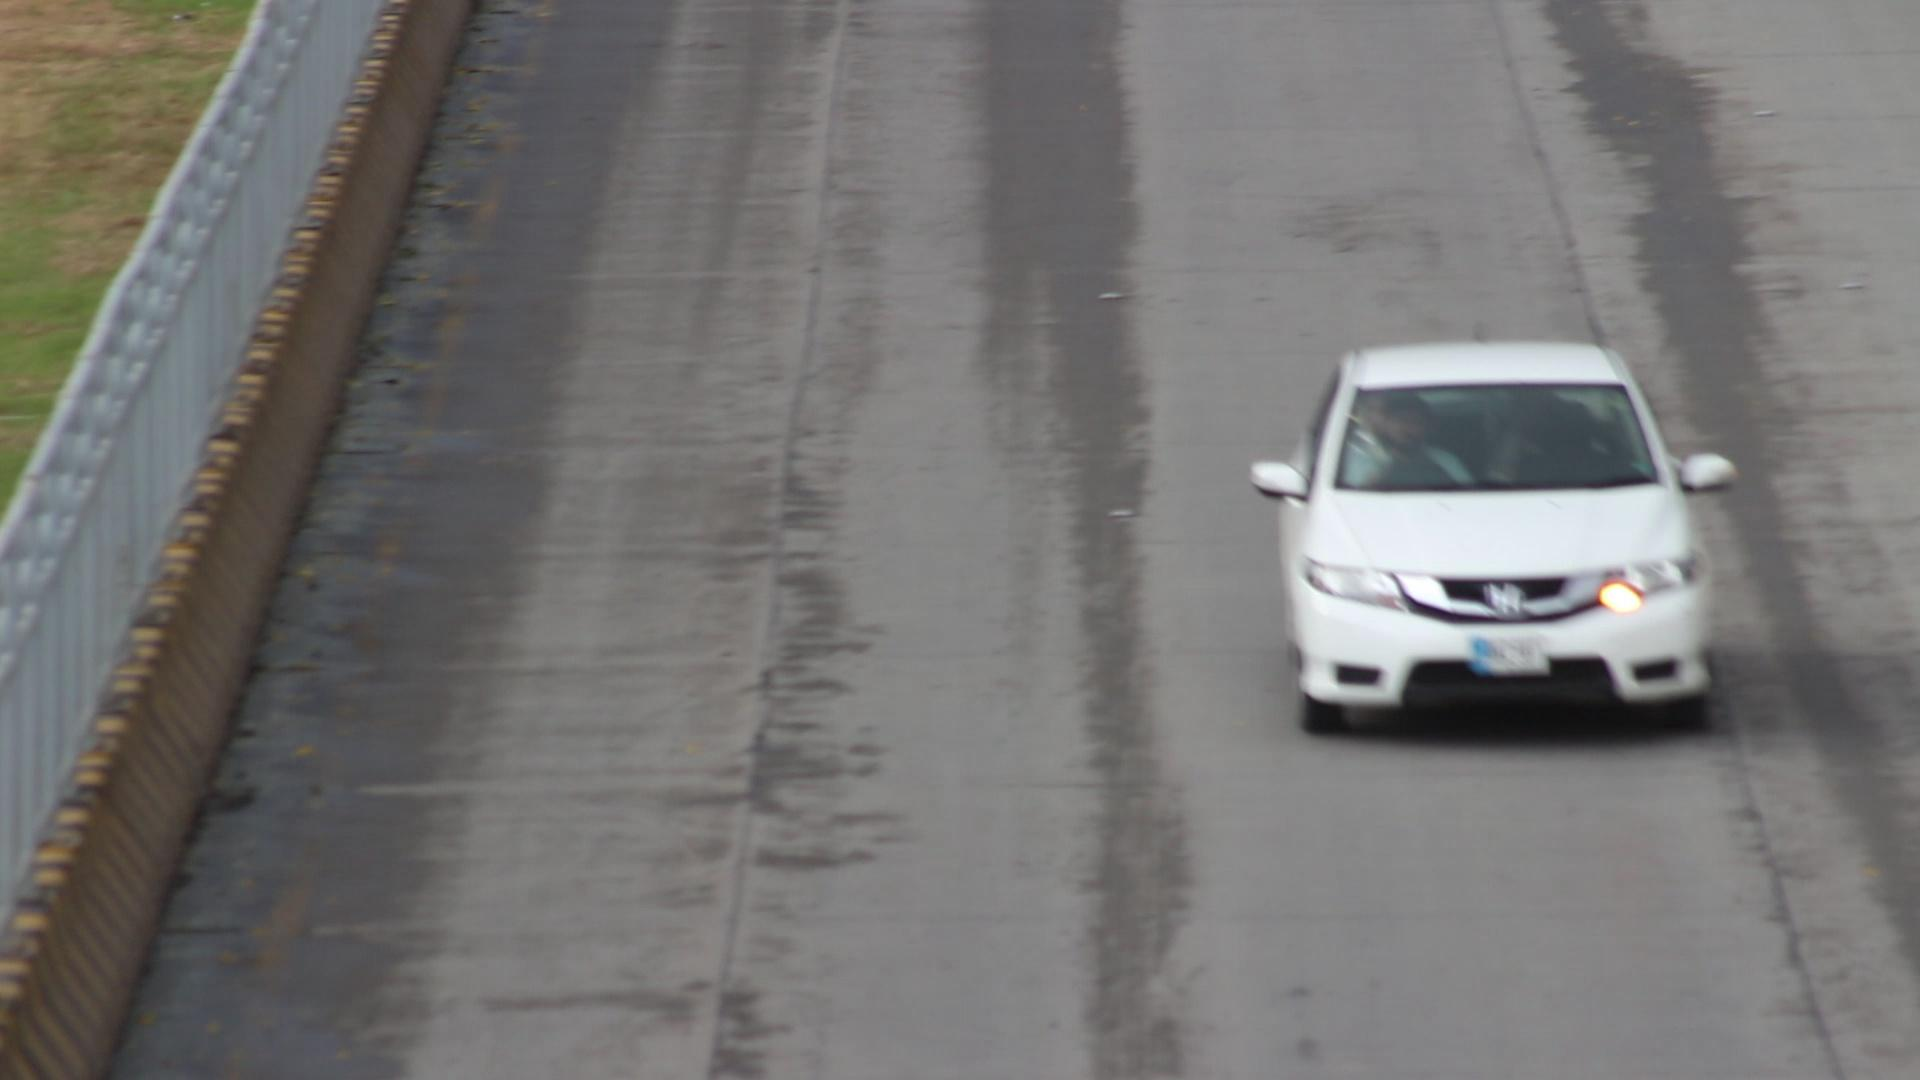windshield: (1311, 360, 1677, 500)
